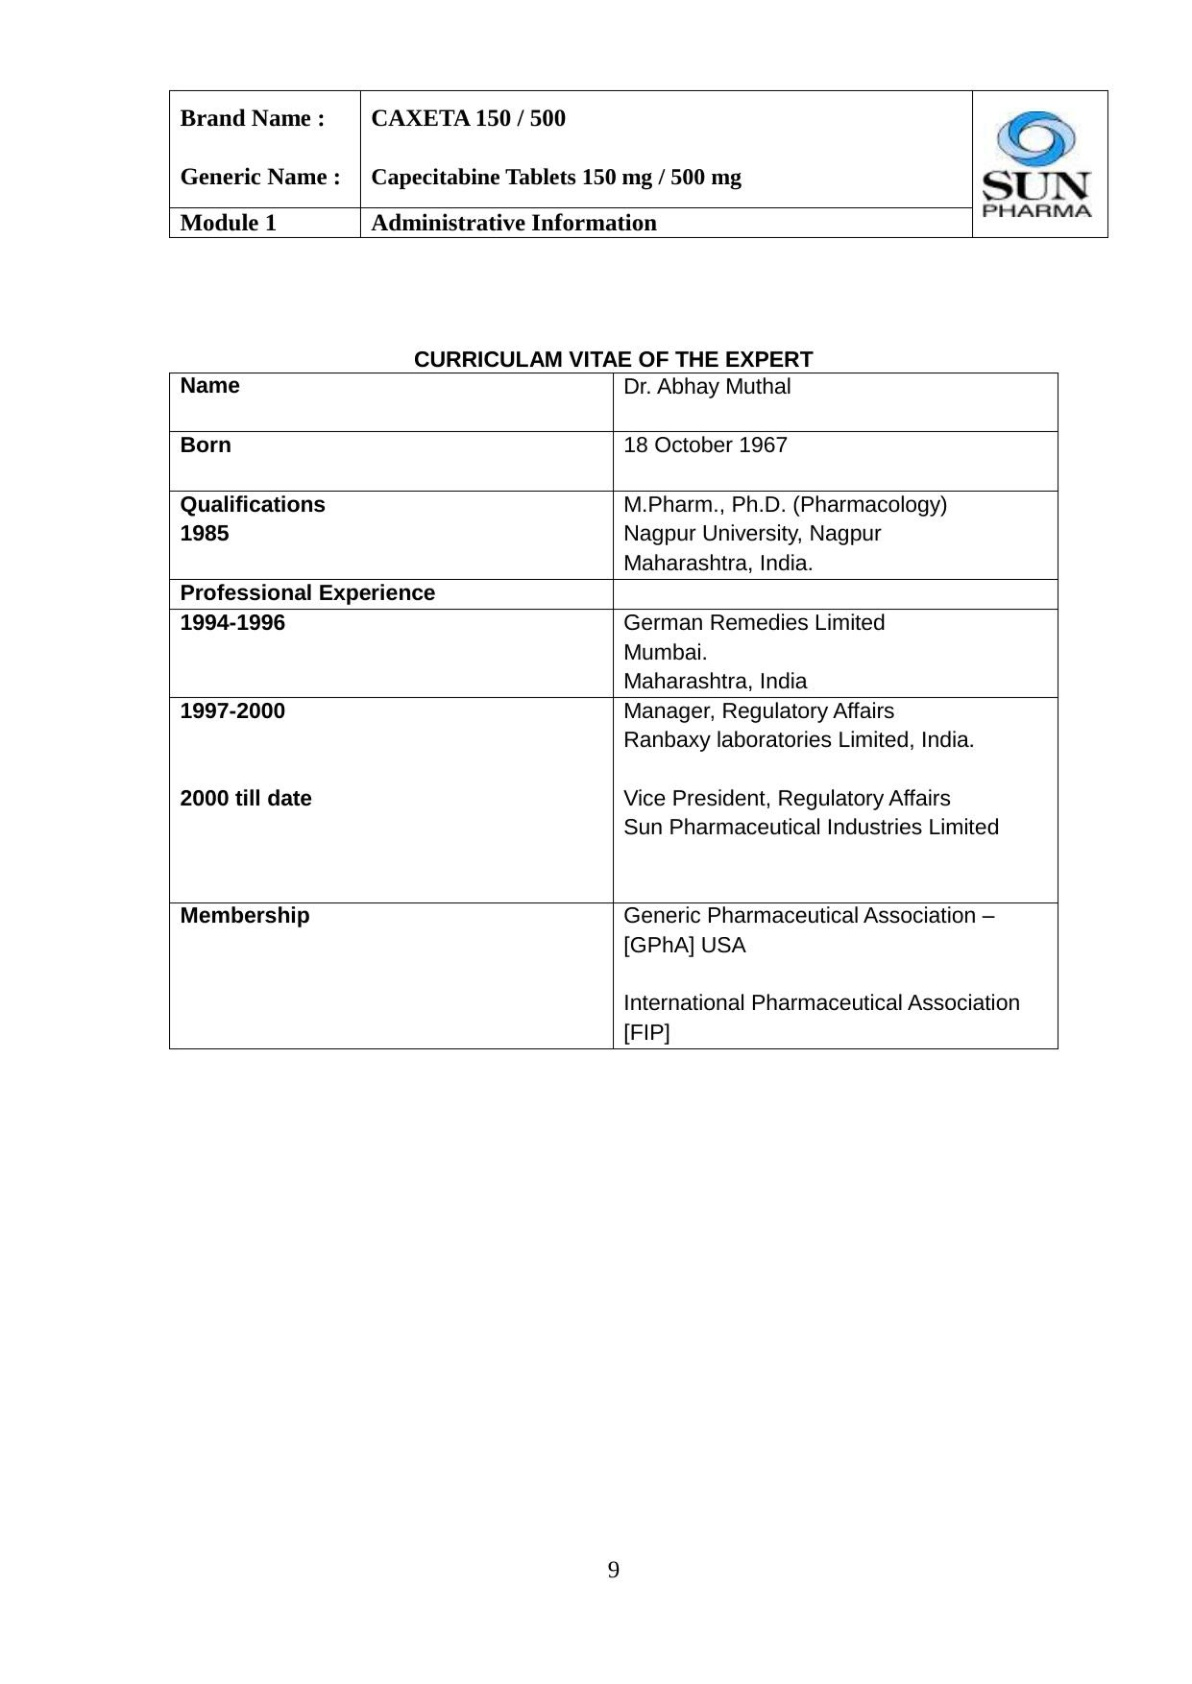full_lined: (168, 371, 1060, 1051)
merged_cells: (168, 89, 1109, 239)
